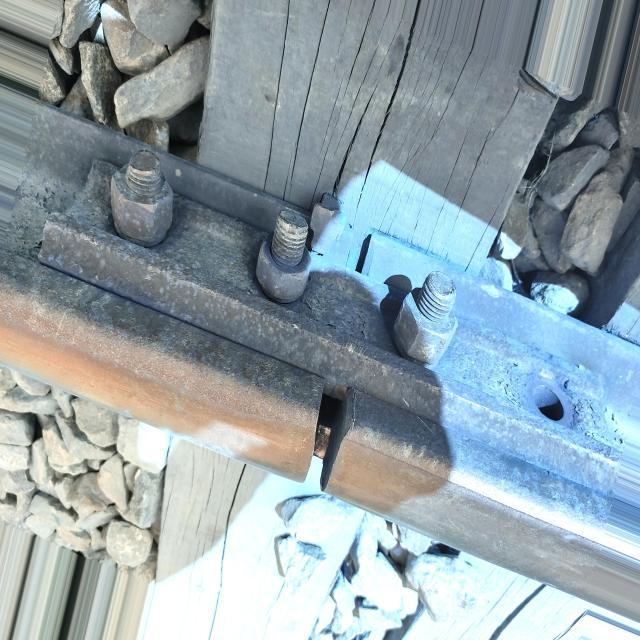Defective Joint: (32, 138, 623, 517)
Good Fasteners: (310, 192, 345, 254)
